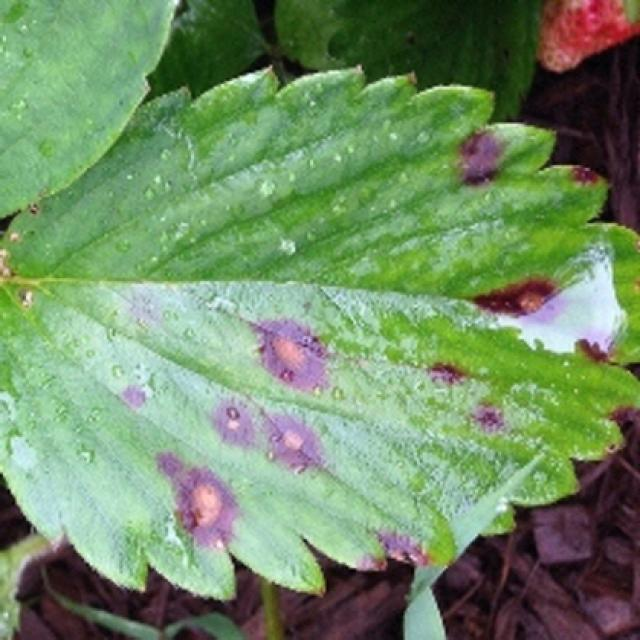Leaf Spot: (2, 63, 640, 599)
